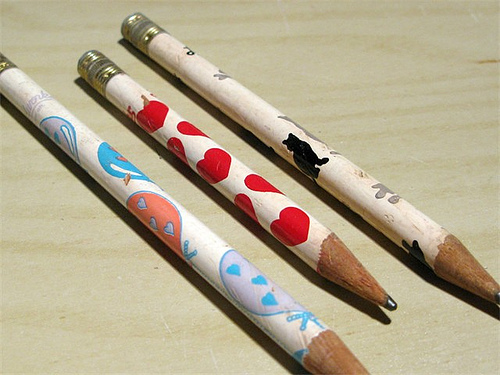pen_tip: (303, 223, 408, 323)
